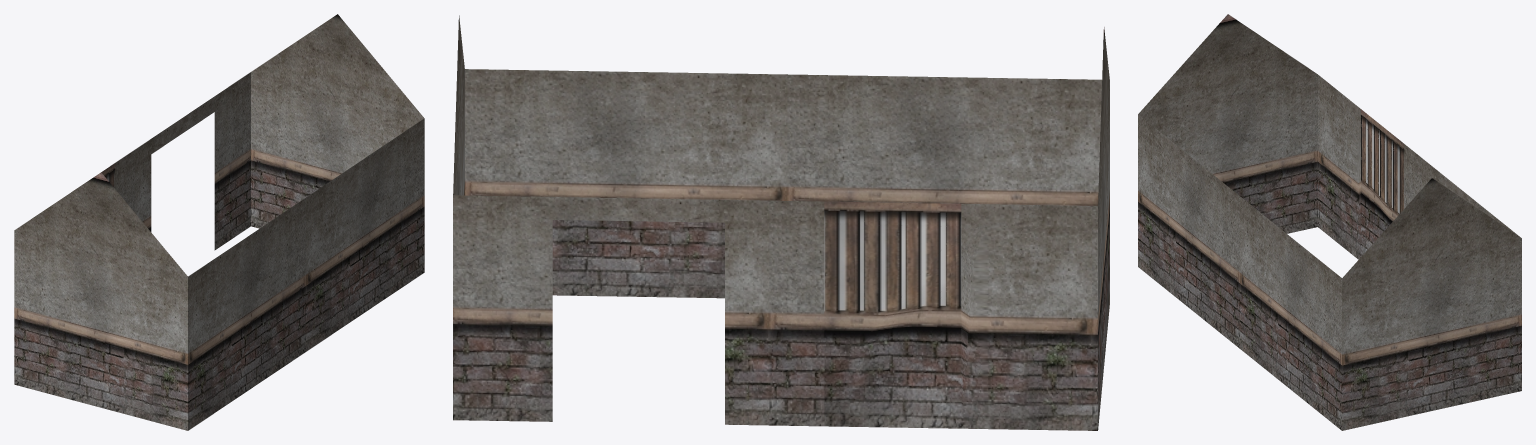
Rendered from sobdio03.obj.
The picture shows the model from 3 angles, left to right: view 1: azimuth 30°, elevation 25°; view 2: azimuth 150°, elevation 25°; view 3: azimuth 270°, elevation 25°; orthographic projection. The views are drawn at different scales.
Parts seen in each view (by area): view 1: sobdio03; view 2: sobdio03; view 3: sobdio03.
Boxes of the visible parts, x1,y1,x2,y2 form: sobdio03: (14, 14, 424, 430); sobdio03: (453, 15, 1109, 430); sobdio03: (1138, 14, 1521, 430).
Size of the model in its own units: 139 by 74.11 by 111.
